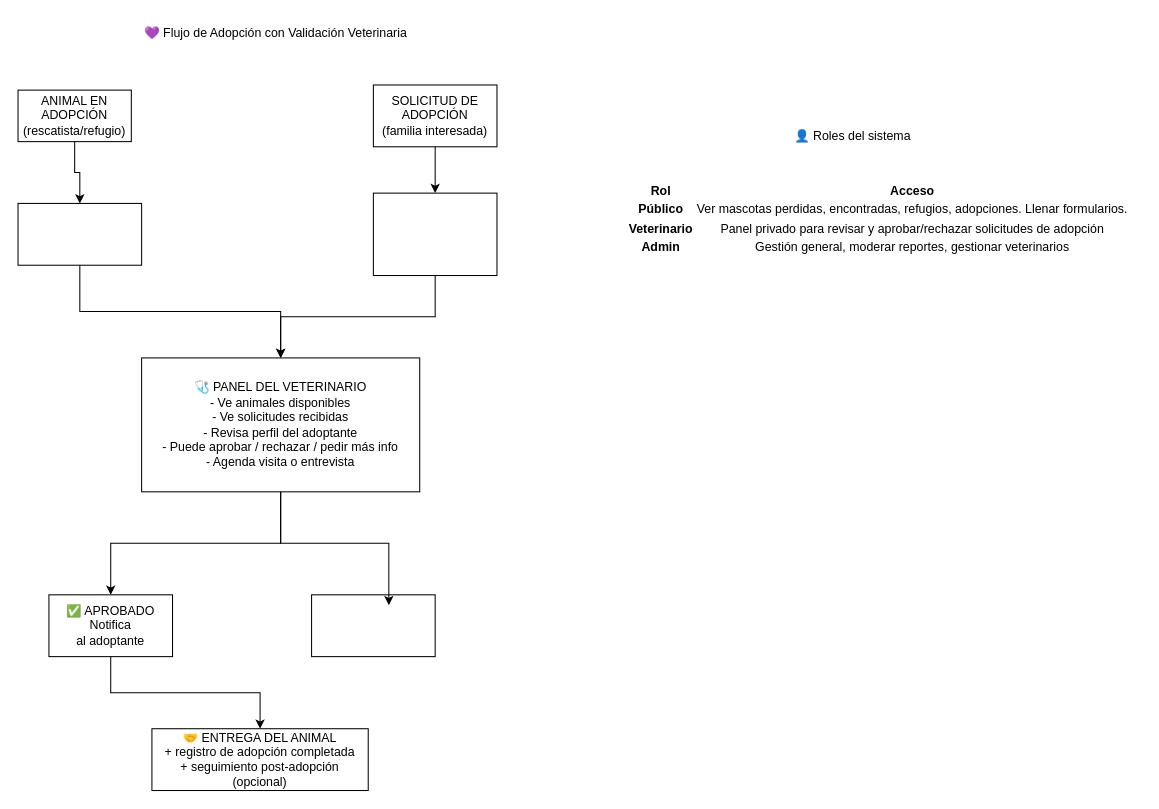
Image size: 1159x809. Some labels were removed from this diagram. The box of each missing label's shape, as (x1, y1, x2, y2) in pixels:
Formulario de solicitud + info del hogar + experiencia previa: (372, 192, 497, 276)
Registro del animal + fotos + historial de salud conocido: (17, 202, 142, 265)
❌ RECHAZADO Notifica: (311, 594, 435, 657)
